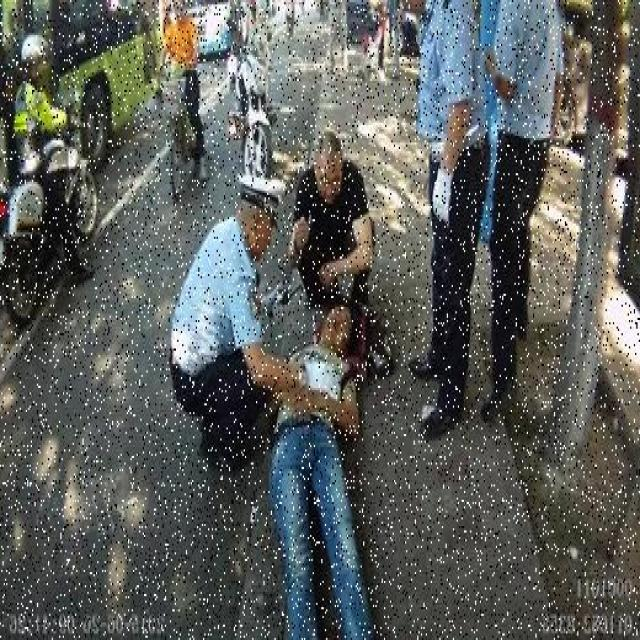fall: (268, 302, 362, 638)
